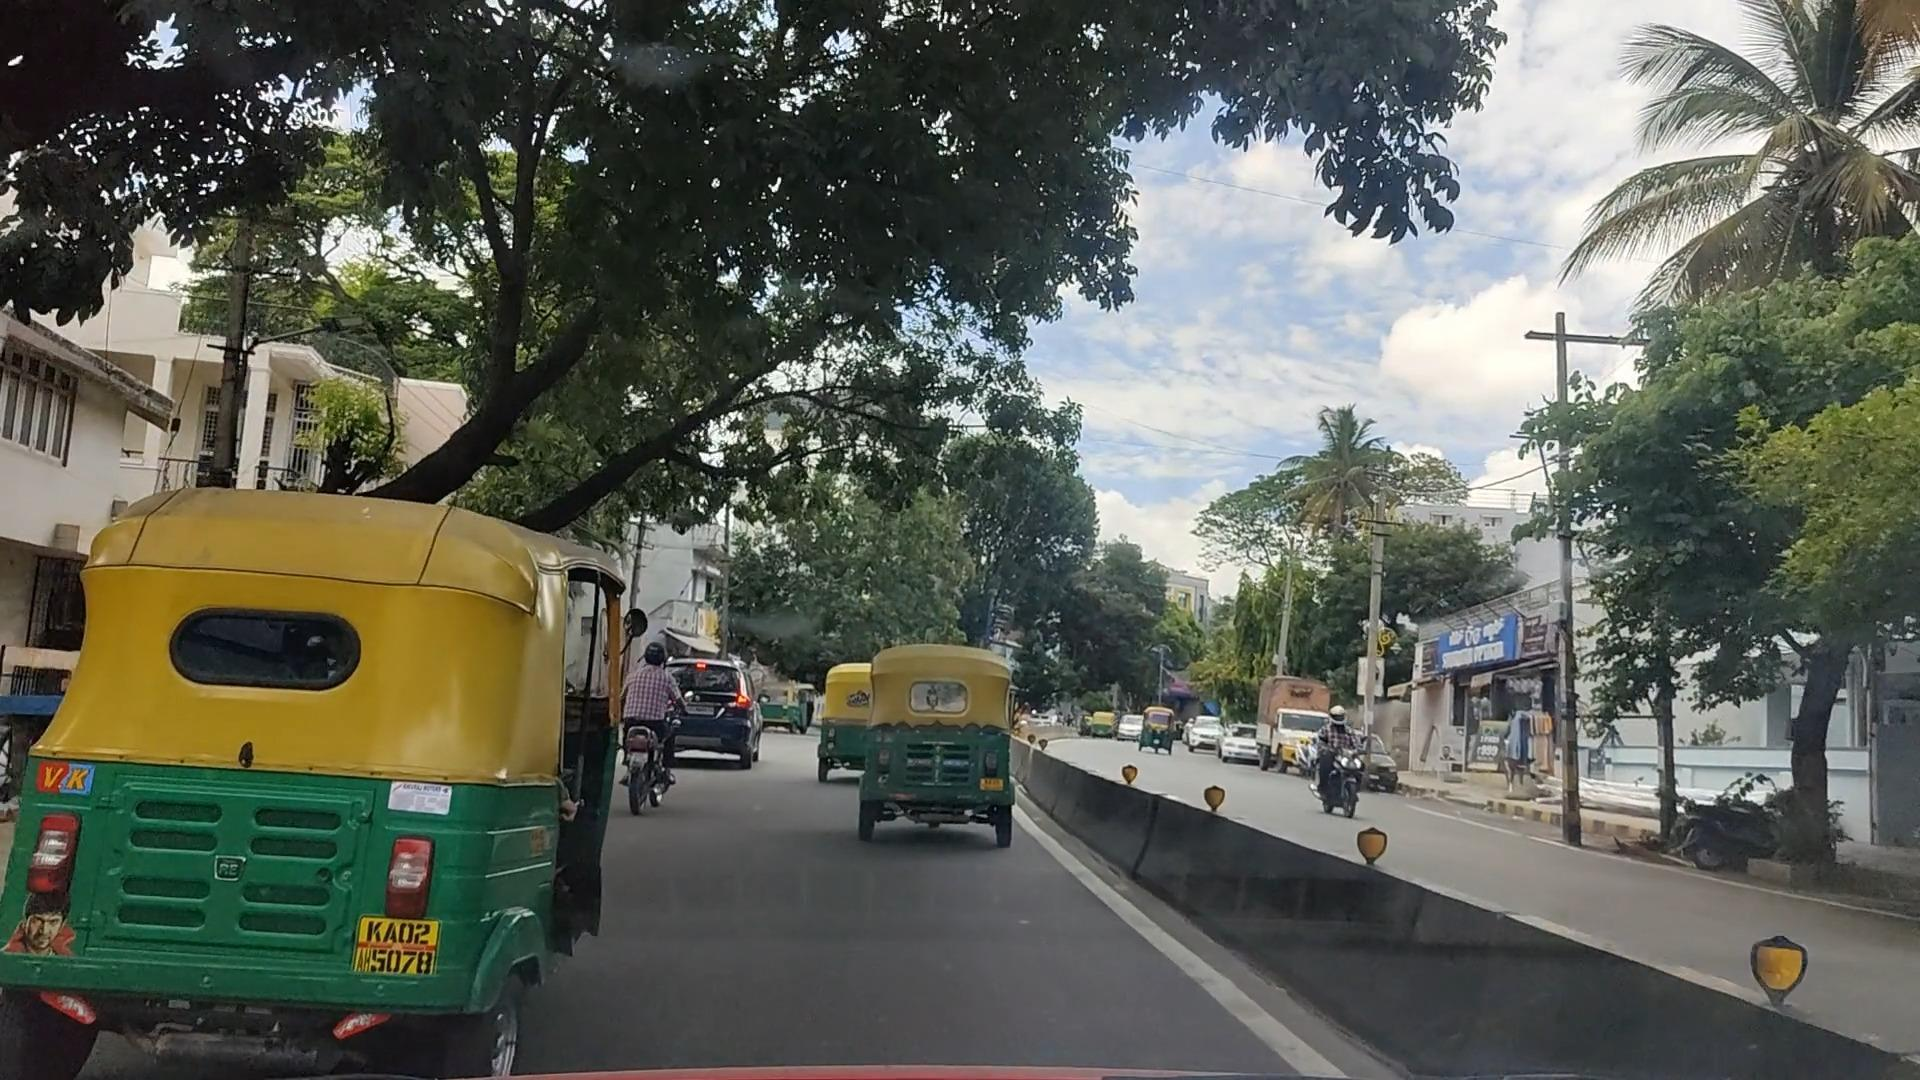LMV: (44, 498, 613, 1080), (878, 628, 1025, 862), (613, 638, 686, 839), (661, 641, 775, 762), (828, 669, 876, 761)
